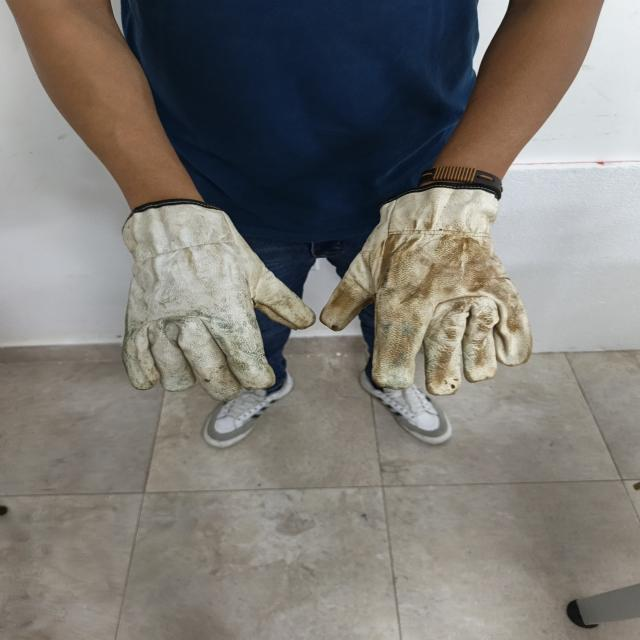gloves: (320, 183, 532, 424), (122, 202, 315, 401)
